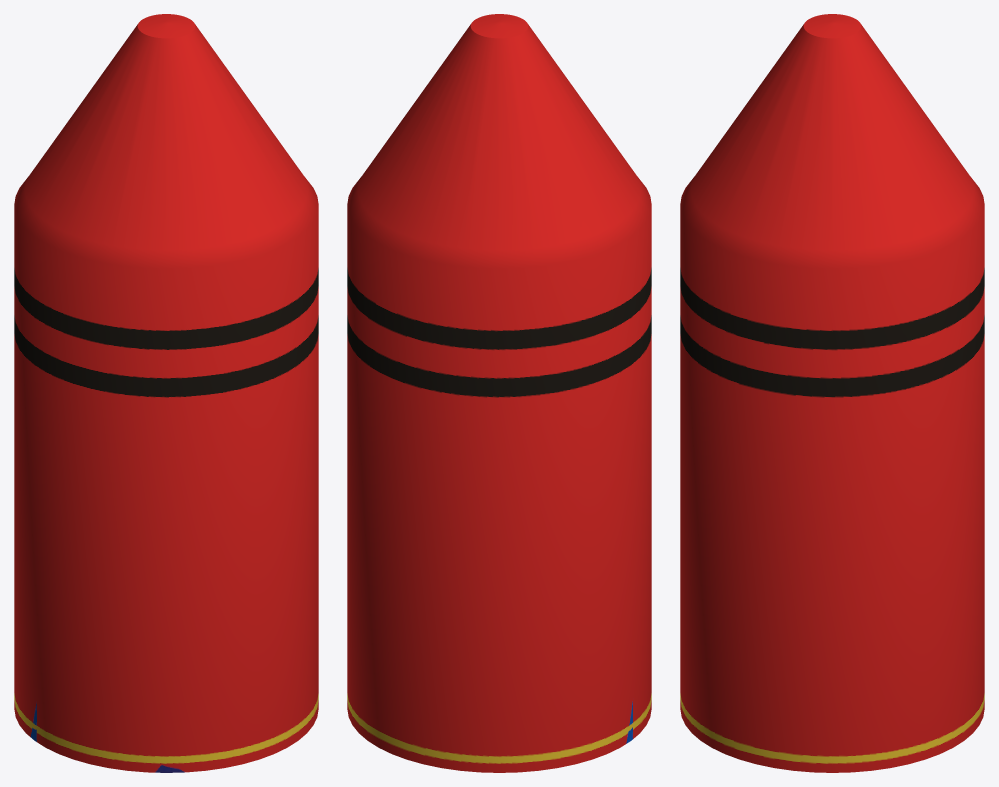
Rendered from 13-topper-front-left.fbx.
The picture shows the model from 3 angles, left to right: view 1: azimuth 30°, elevation 25°; view 2: azimuth 150°, elevation 25°; view 3: azimuth 270°, elevation 25°; orthographic projection.
Parts seen in each view (by area): view 1: topper-front-left; view 2: topper-front-left; view 3: topper-front-left.
Part boxes in pixels (bbox=[...]): topper-front-left: bbox=[14, 14, 318, 772]; topper-front-left: bbox=[347, 14, 651, 772]; topper-front-left: bbox=[680, 14, 984, 772].
Size of the model in its own units: 2320 by 5770 by 2320.
1 material, 1 textured.
